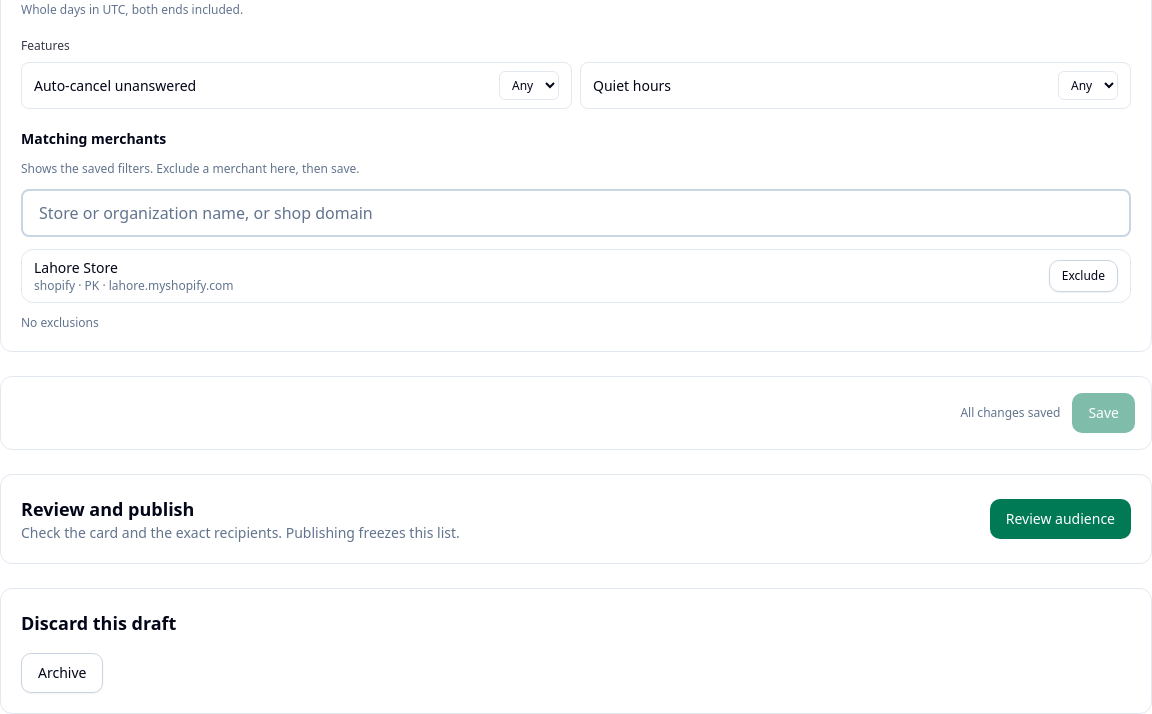
Tips campaign editor › asks for a fresh review when the audience changed
The image size is (1152, 714).
(page scrolled)
Click the button "Review audience".
click(1060, 519)  # box [990, 499, 1131, 539]
(page scrolled)
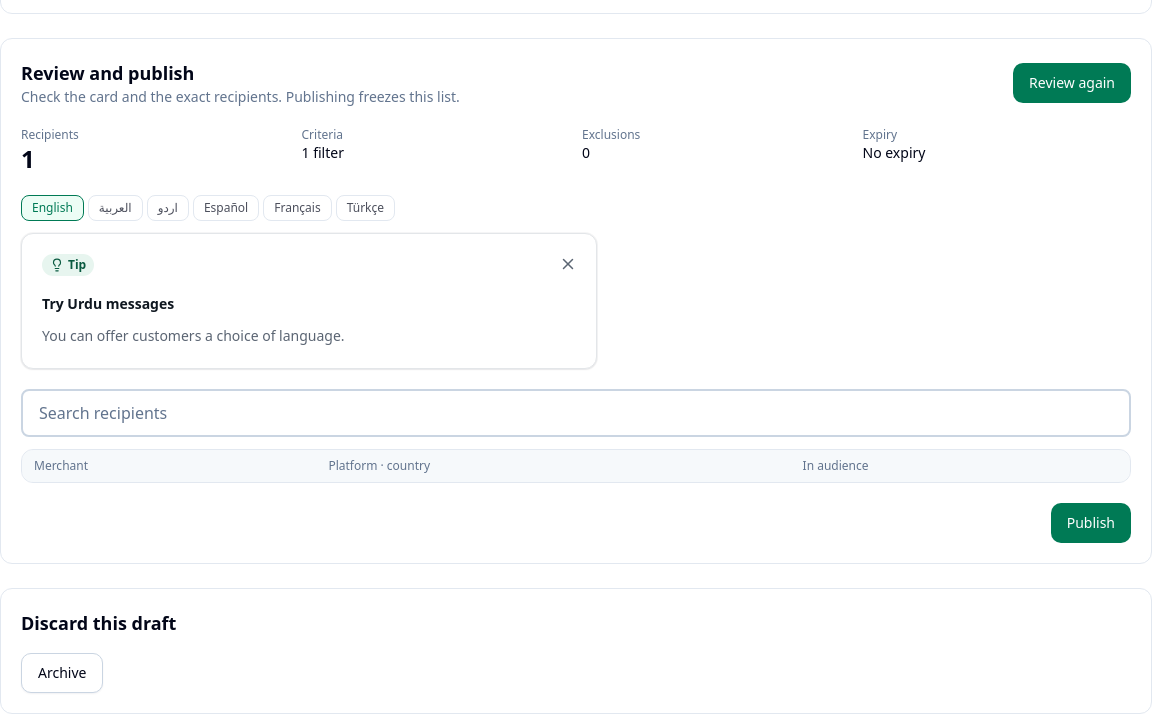
Click the button "Publish".
click(1091, 523)  # box [1051, 503, 1131, 543]
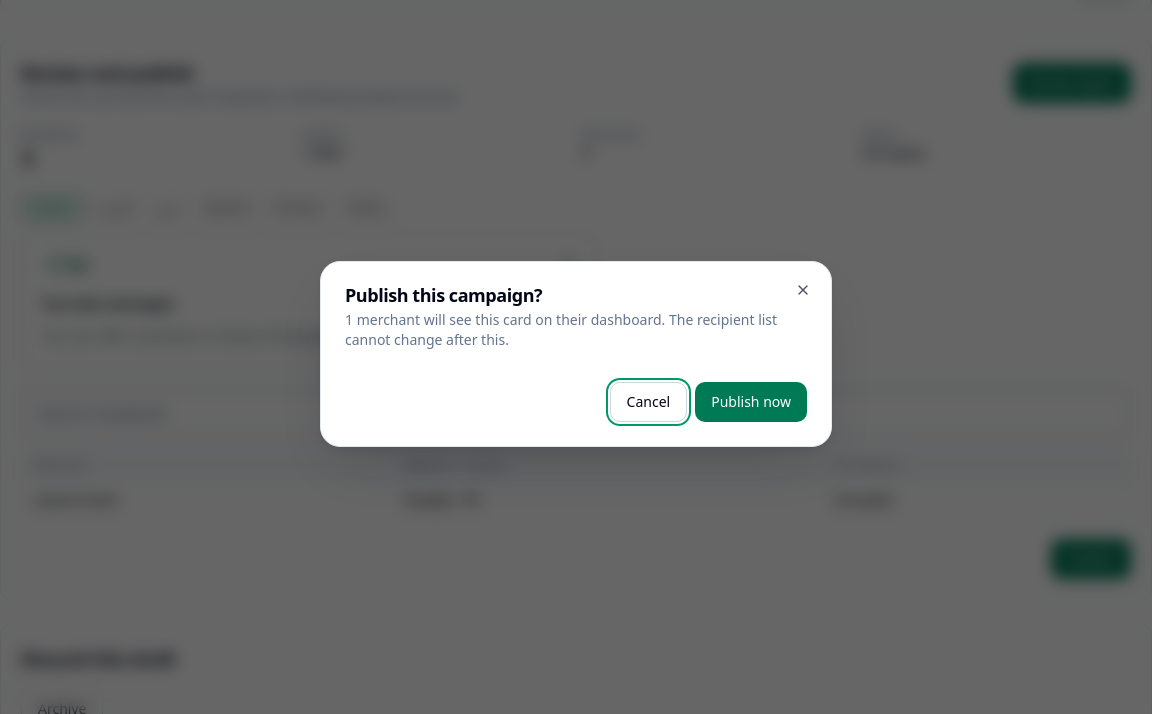
Click the button "Publish now".
click(751, 402)  # box [695, 382, 807, 422]
(page scrolled)
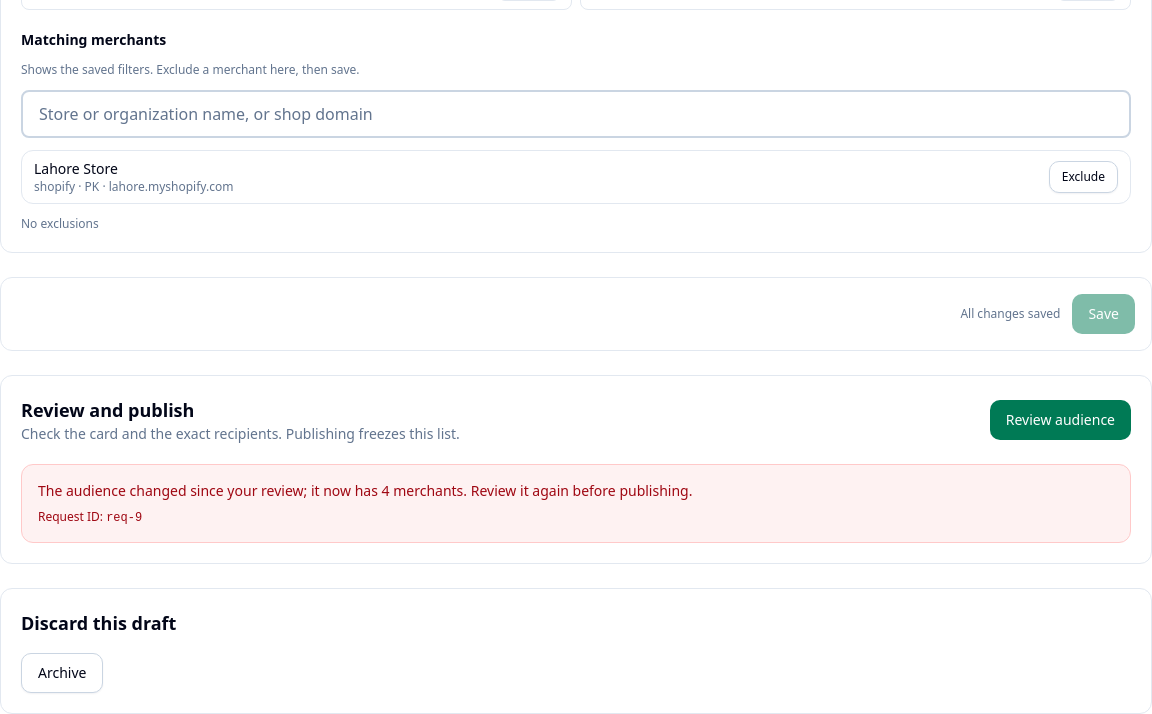
Check: the text "The audience changed since your review; it now has 4 merchants" is shown, box [38, 481, 692, 500]
Check: the element with test id "tip-preview" is gone
